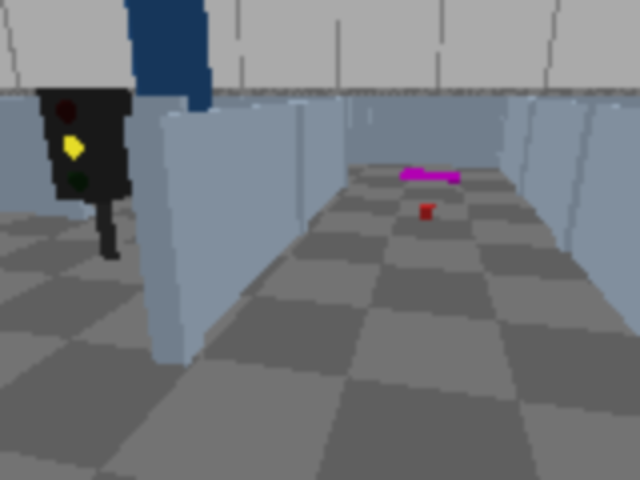goal_zone: (398, 169, 462, 183)
puck: (419, 204, 434, 221)
traffic_light: (35, 78, 149, 271)
